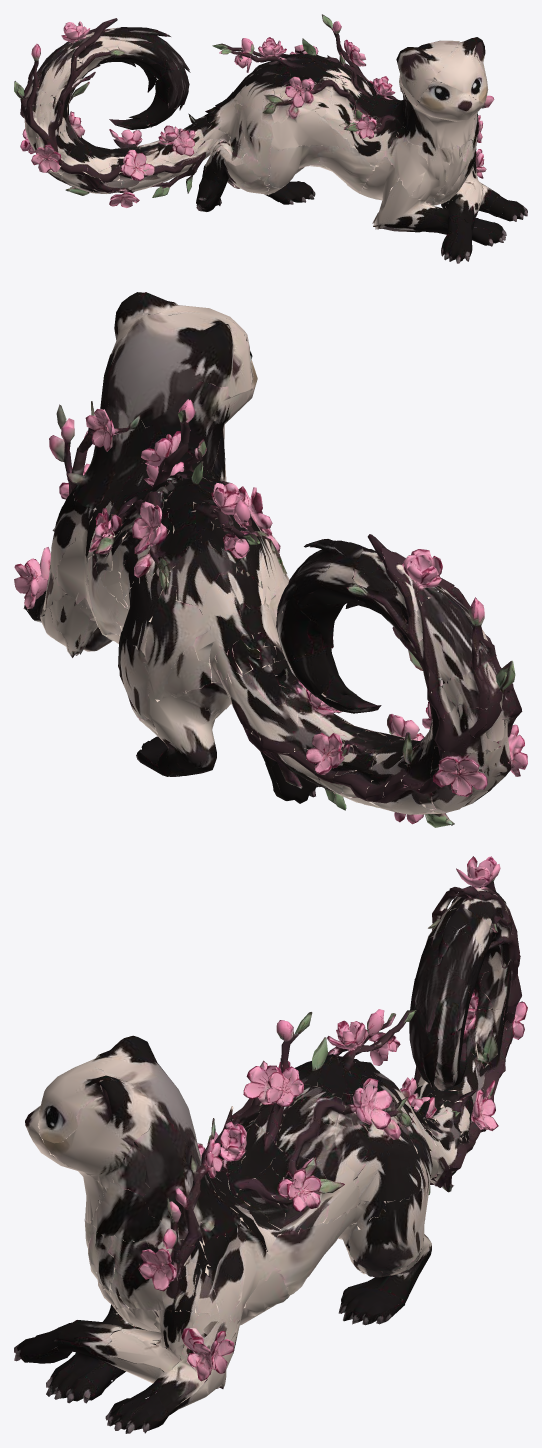
The picture shows the model from 3 angles, top to bottom: view 1: azimuth 30°, elevation 25°; view 2: azimuth 150°, elevation 25°; view 3: azimuth 270°, elevation 25°; orthographic projection. The views are drawn at different scales.
Visible parts, largest first — view 1: Mesh_0; view 2: Mesh_0; view 3: Mesh_0.
Boxes of the visible parts, left/top/right/bottom form: Mesh_0: left=14, top=14, right=527, bottom=263; Mesh_0: left=14, top=292, right=527, bottom=827; Mesh_0: left=14, top=856, right=527, bottom=1433.
Bounding box in the file's own units: 1.9 × 0.8844 × 1.32.
1 material, 1 textured.
